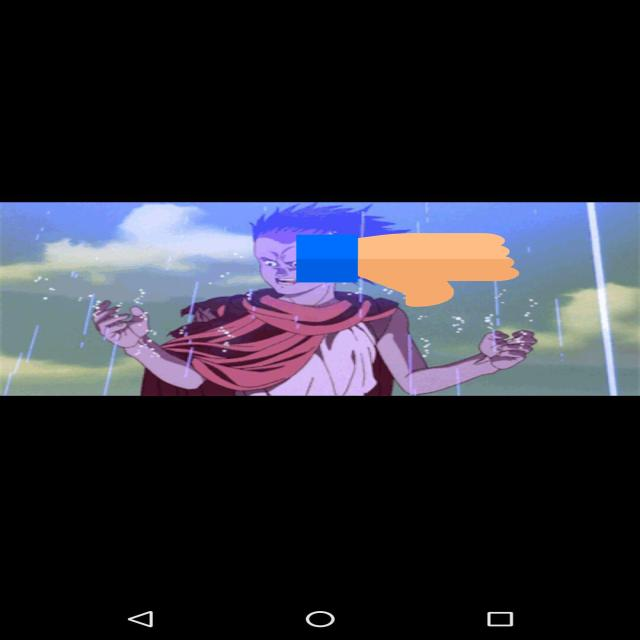obstruction: (296, 231, 519, 309)
